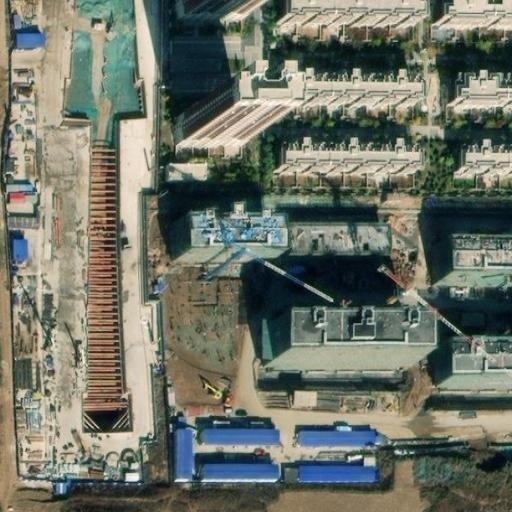building: (270, 325, 419, 363), (169, 223, 268, 268), (276, 73, 418, 102), (275, 144, 417, 173), (289, 221, 392, 257), (281, 0, 423, 23), (434, 347, 512, 386), (172, 104, 242, 145), (433, 250, 512, 286), (442, 0, 512, 24), (452, 147, 512, 175), (297, 464, 375, 484), (456, 79, 512, 106), (205, 462, 278, 480), (300, 429, 373, 446), (206, 428, 282, 443), (182, 0, 251, 15), (161, 162, 205, 184), (176, 428, 193, 480), (4, 181, 35, 207), (4, 213, 32, 230), (12, 239, 29, 266), (16, 32, 44, 47)
